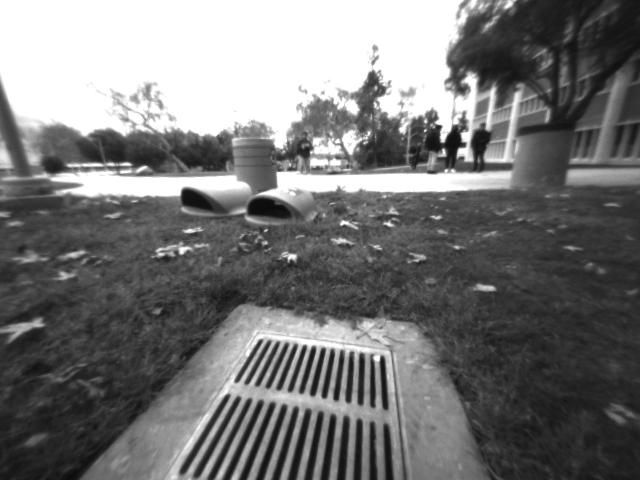trashcan: (513, 126, 565, 206), (228, 136, 296, 197)
